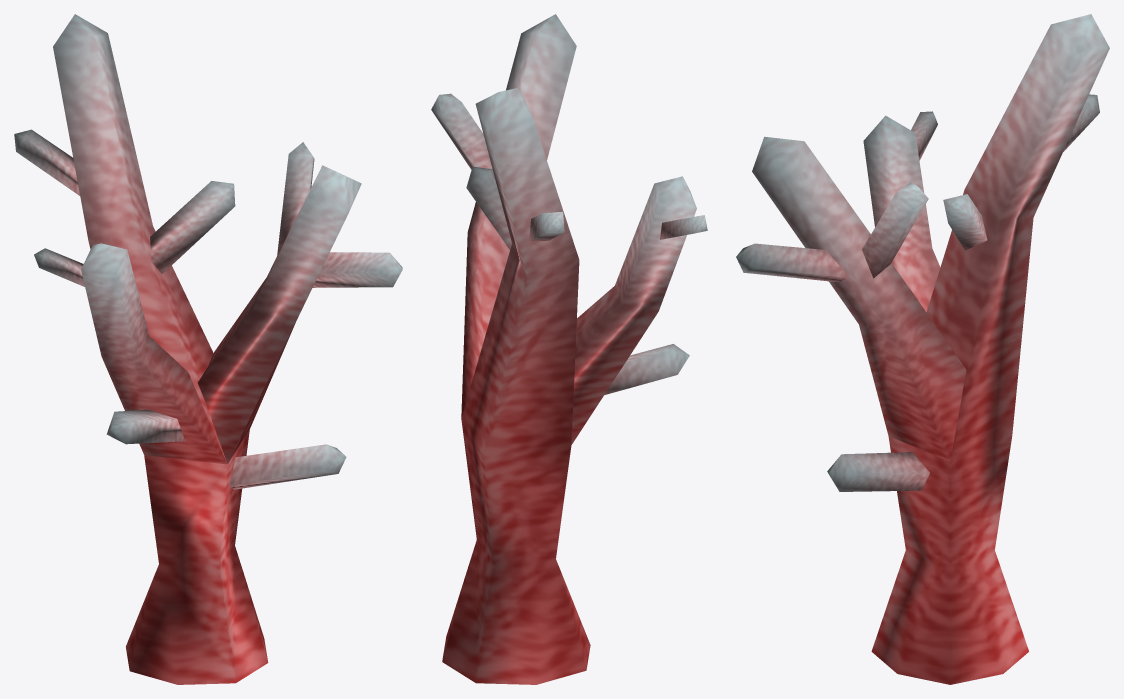
File: object_coral_01.fbx
The picture shows the model from 3 angles, left to right: view 1: azimuth 30°, elevation 25°; view 2: azimuth 150°, elevation 25°; view 3: azimuth 270°, elevation 25°; orthographic projection. The views are drawn at different scales.
Visible parts, largest first — view 1: object_coral_01; view 2: object_coral_01; view 3: object_coral_01.
Part boxes in pixels (x1,y1,x2,y2): object_coral_01: (14,14,402,684); object_coral_01: (431,14,707,684); object_coral_01: (736,14,1109,684).
Bounding box in the file's own units: 10.08 × 20.66 × 11.45.
